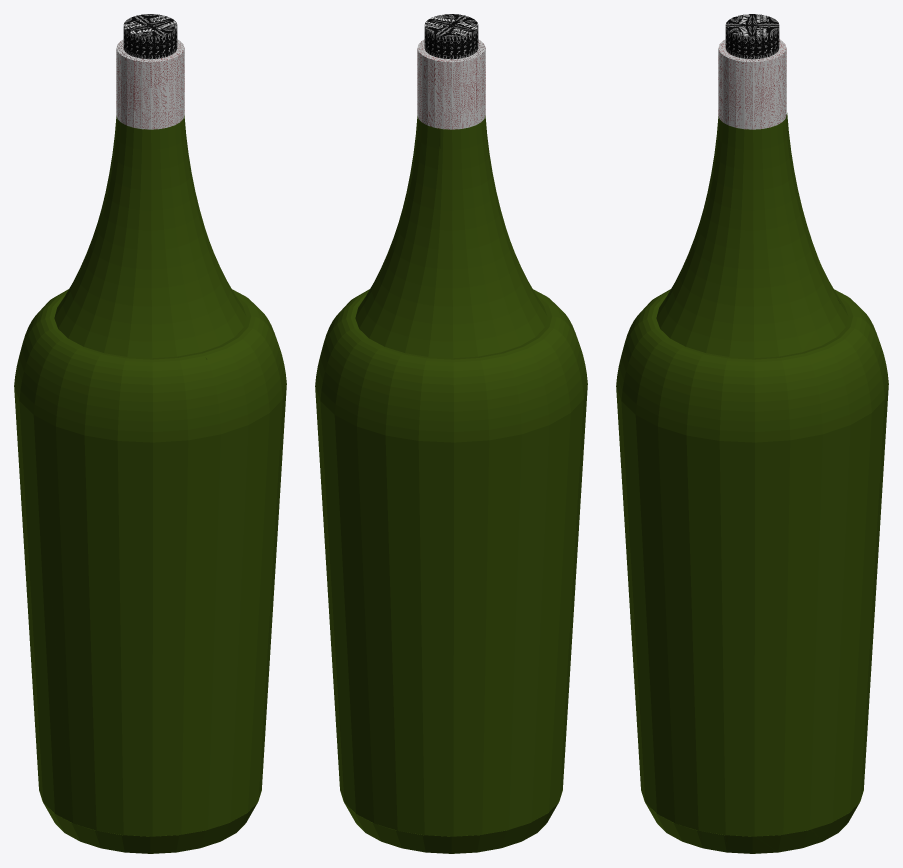
3 views of the same model, side by side, from view 1: azimuth 30°, elevation 25°; view 2: azimuth 150°, elevation 25°; view 3: azimuth 270°, elevation 25° (orthographic).
Visible parts, largest first — view 1: mesh1_mesh1-geometry; view 2: mesh1_mesh1-geometry; view 3: mesh1_mesh1-geometry.
Boxes of the visible parts, bbox=[...] form: mesh1_mesh1-geometry: bbox=[14, 14, 286, 853]; mesh1_mesh1-geometry: bbox=[315, 14, 587, 853]; mesh1_mesh1-geometry: bbox=[616, 14, 888, 853].
Bounding box in the file's own units: 0.2872 × 0.9138 × 0.2872.
